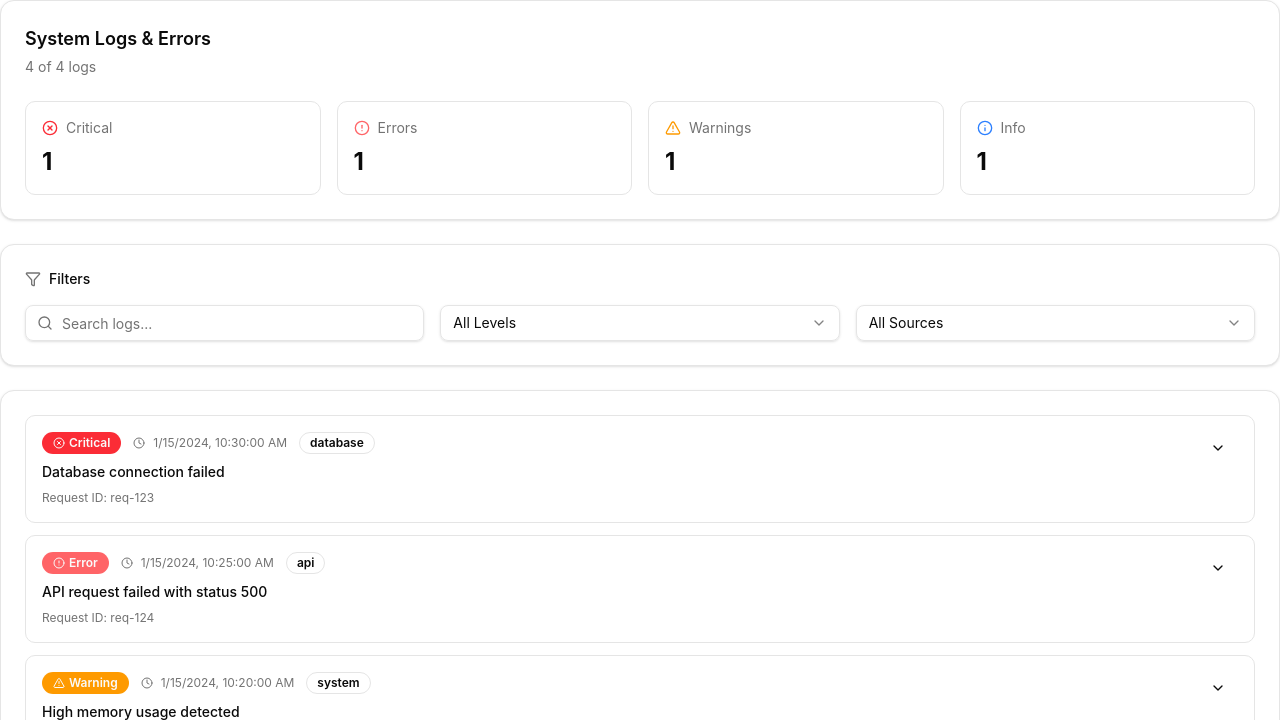
it: ErrorLogs › filters logs by search query
Step 1. Type "database" into the field with placeholder "Search logs..." → (225, 323), box left=25, top=305, right=424, bottom=341
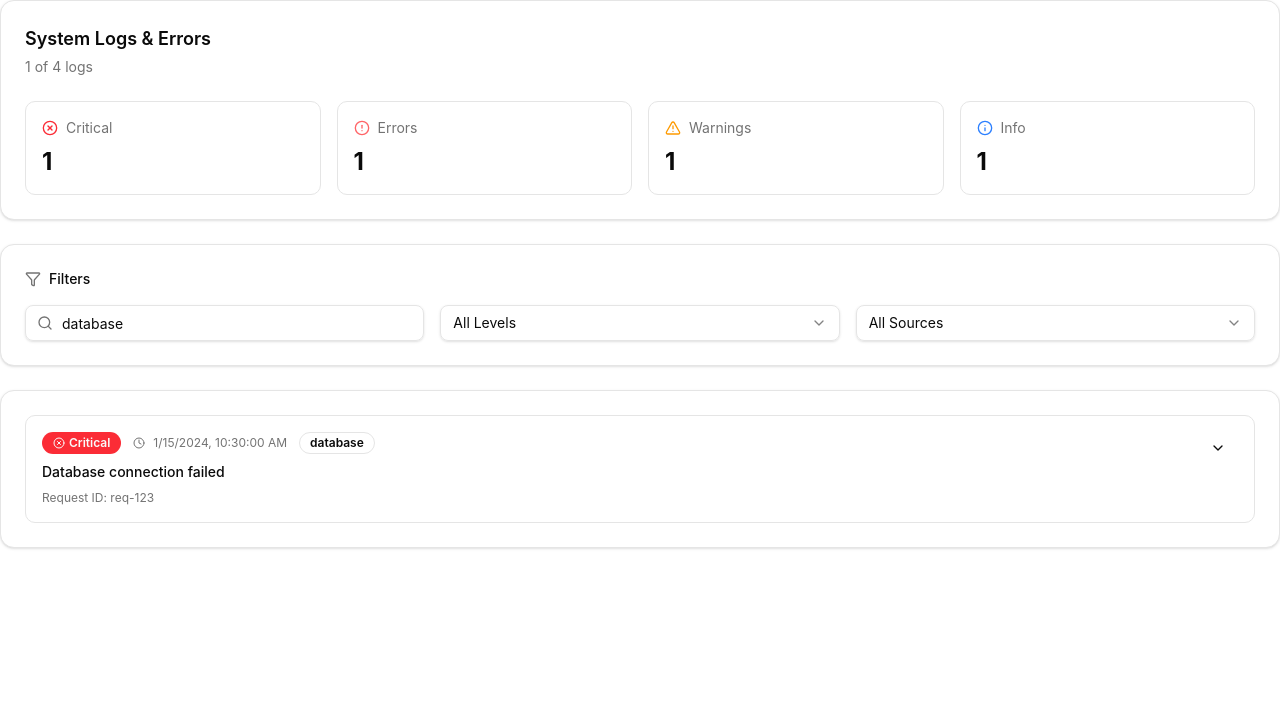
Expected: the text "Database connection failed" is shown, left=42, top=463, right=225, bottom=480
Expected: the text "API request failed with status 500" is gone
